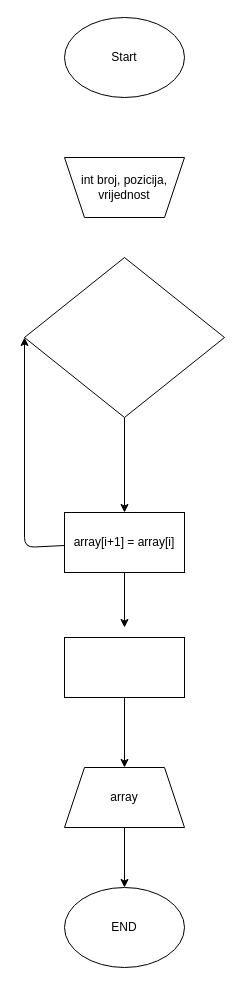
Some shapes in this 242 by 985 pixel diagram are drawn without their labels. Here are the shapes that lost their labels. From the top down, the centre of each, then its label:
point (124, 337): for(i=broj-1;i<pozicija-1;i++)
point (124, 667): array[poz-1] = vrijednost
